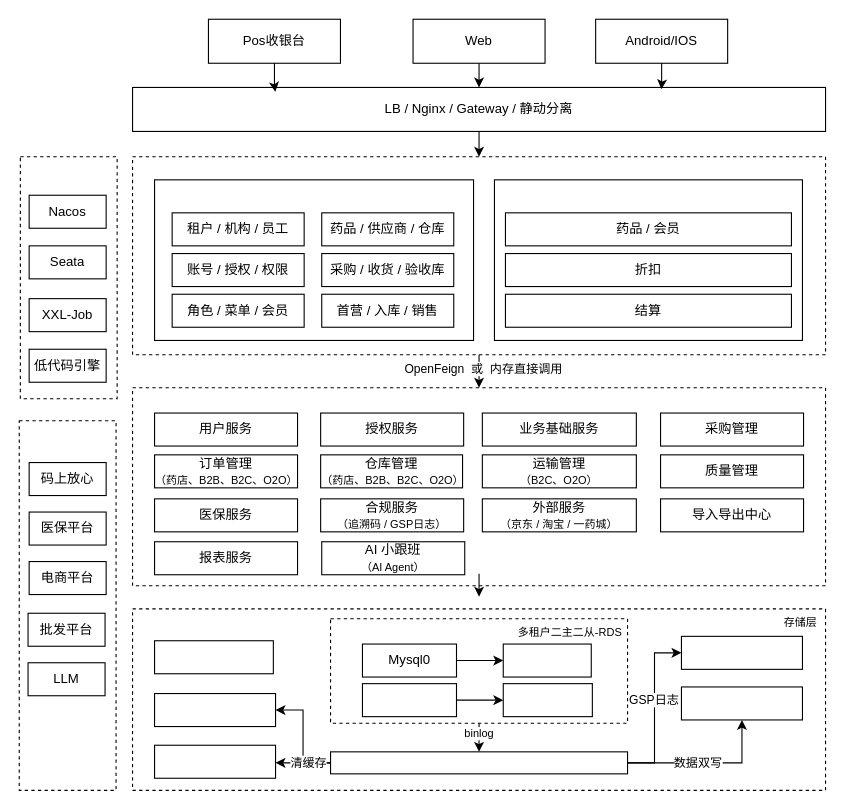
The diagram is 845 pixels wide and 810 high, and some of its shapes have lost their labels. The box of each missing label's shape, as (x1, y1, x2, y2) in pixels:
Canal / Flink CDC: (329, 751, 628, 774)
ES搜索 / 列式存储: (680, 686, 802, 720)
Mysql0-slave: (502, 643, 591, 677)
Mysql1: (361, 683, 457, 717)
Mysql1-slave: (502, 683, 592, 717)
OSS: (153, 640, 273, 674)
RabbitMQ: (680, 635, 802, 669)
分布式缓存Redis: (153, 692, 276, 727)
外部平台: (18, 420, 116, 790)
应用层: (131, 156, 826, 355)
支撑服务: (19, 156, 117, 399)
服务层: (131, 387, 826, 586)
本地缓存EhCache: (153, 744, 276, 778)
终端平台: (493, 179, 802, 340)
运营平台: (153, 179, 474, 340)
